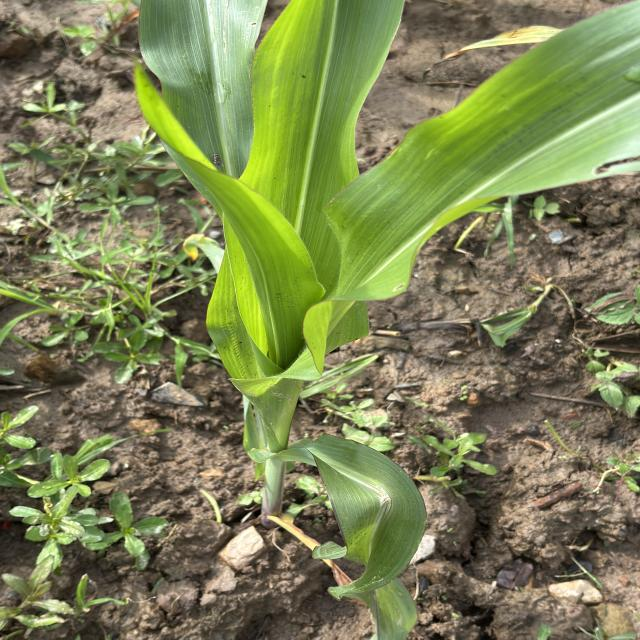maize: (153, 16, 474, 599), (377, 38, 640, 199)
weed: (8, 106, 148, 384), (489, 227, 640, 432), (14, 411, 144, 640)
